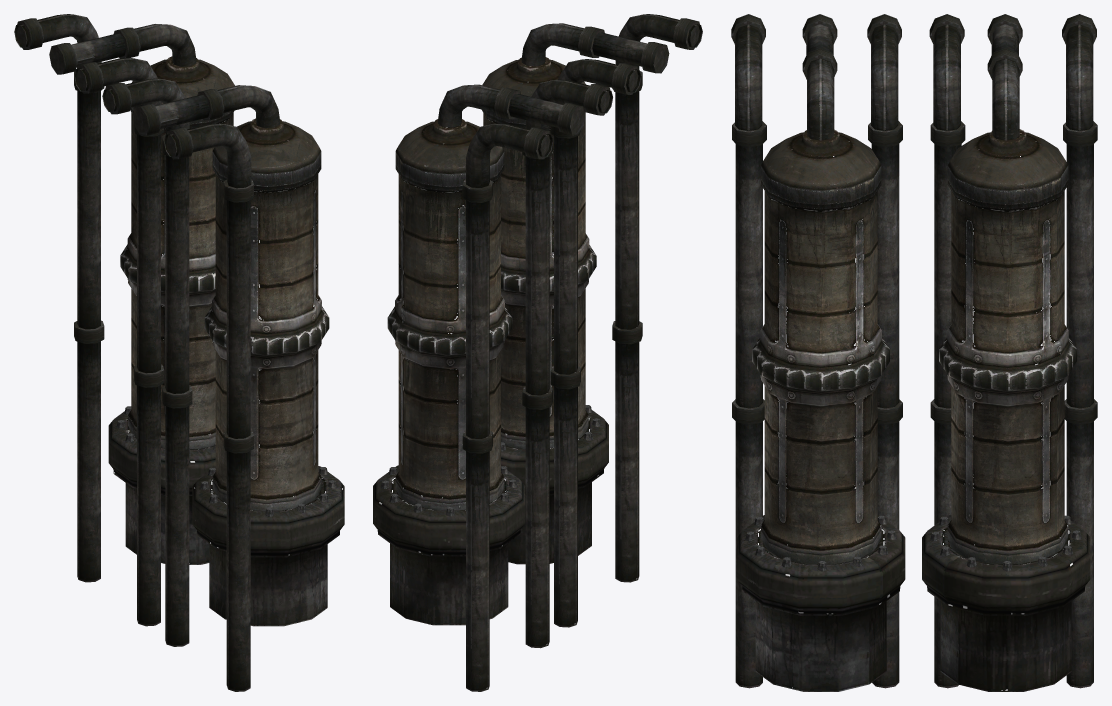
File: tesla_dressing_metaldetails_01.dae
The picture shows the model from 3 angles, left to right: view 1: azimuth 30°, elevation 25°; view 2: azimuth 150°, elevation 25°; view 3: azimuth 270°, elevation 25°; orthographic projection. The views are drawn at different scales.
Parts seen in each view (by area): view 1: polySurface1; view 2: polySurface1; view 3: polySurface1.
Part boxes in pixels (box(x1,y1,x2,y2)): polySurface1: box(14, 14, 344, 691); polySurface1: box(373, 14, 702, 691); polySurface1: box(731, 14, 1097, 691).
Size of the model in its own units: 138 by 383 by 201.
